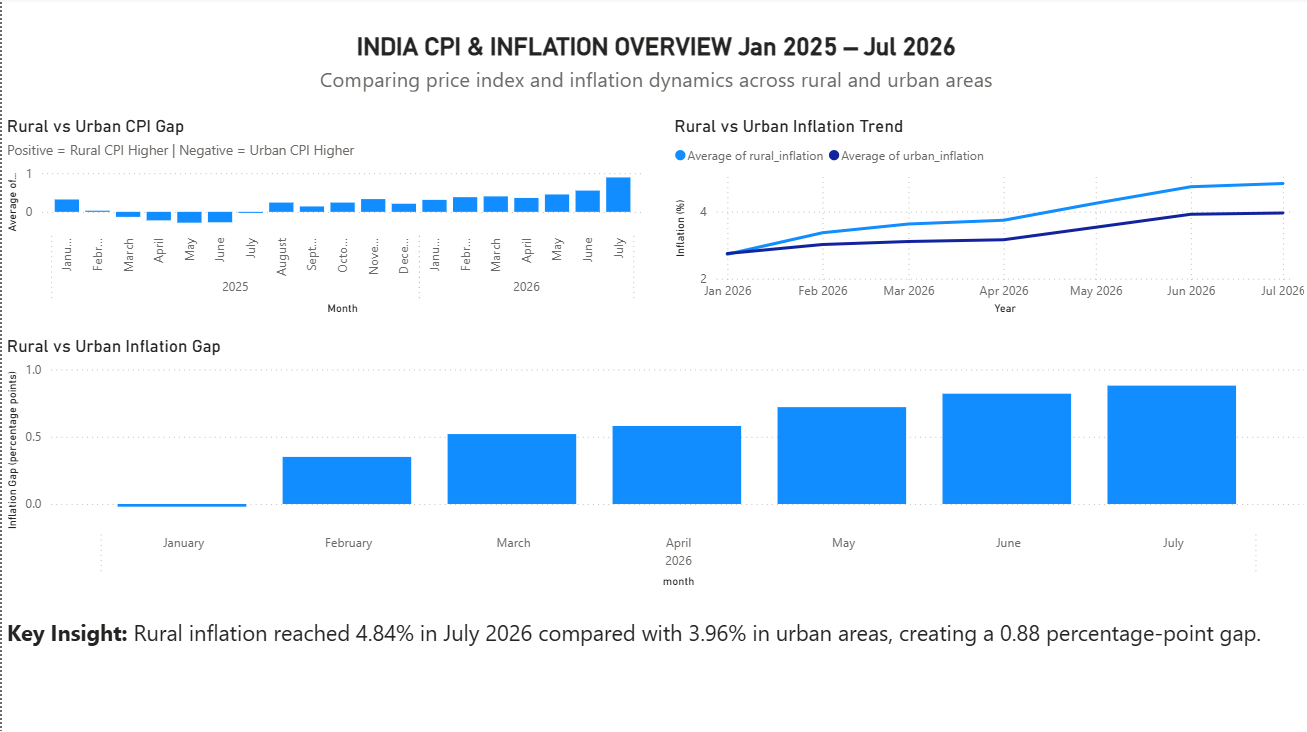

The page's visual inventory and layout, read from the dashboard file:
{"tool":"powerbi","page":{"name":"Page 2","canvas":[1280,720],"ordinal":1},"visuals":[{"type":"clusteredColumnChart","title":"Rural vs Urban CPI Gap","fields":{"Category":["Table1.month.Variation.Date Hierarchy.Year","Table1.month.Variation.Date Hierarchy.Month"],"Y":["Avg(Table1.Rural_Urban_CPI_Gap)"]},"box":[0,116.2,632.2,199.3],"z":0},{"type":"lineChart","title":"Rural vs Urban Inflation Trend","fields":{"Category":["Table1.month.Variation.Date Hierarchy.Year","Table1.month.Variation.Date Hierarchy.Month"],"Y":["Avg(Table1.rural_inflation)","Avg(Table1.urban_inflation)"]},"box":[653,116.2,627.3,199.3],"z":1000},{"type":"clusteredColumnChart","title":"Rural vs Urban Inflation Gap","fields":{"Category":["Table1.month.Variation.Date Hierarchy.Year","Table1.month.Variation.Date Hierarchy.Month"],"Y":["Avg(Table1.Inflation_Gap)"]},"box":[0,331.4,1280.3,251.9],"z":2000},{"type":"textbox","box":[0,601.6,1280.3,92.9],"z":3000},{"type":"textbox","title":"INDIA CPI & INFLATION OVERVIEW                   Jan 2025 – Jul 2026","box":[0,34.2,1280.3,64.8],"z":4000}]}

Visuals, with their boxes in screenshot pixels (x1, y1, x2, y2), scaled from the page's 1280x720 canvas onto the 1307x732 screenshot:
"Rural vs Urban CPI Gap" clusteredColumnChart: Rect(0, 118, 646, 321)
"Rural vs Urban Inflation Trend" lineChart: Rect(667, 118, 1306, 321)
"Rural vs Urban Inflation Gap" clusteredColumnChart: Rect(0, 337, 1306, 593)
textbox: Rect(0, 612, 1306, 706)
"INDIA CPI & INFLATION OVERVIEW                   Jan 2025 – Jul 2026" textbox: Rect(0, 35, 1306, 101)
